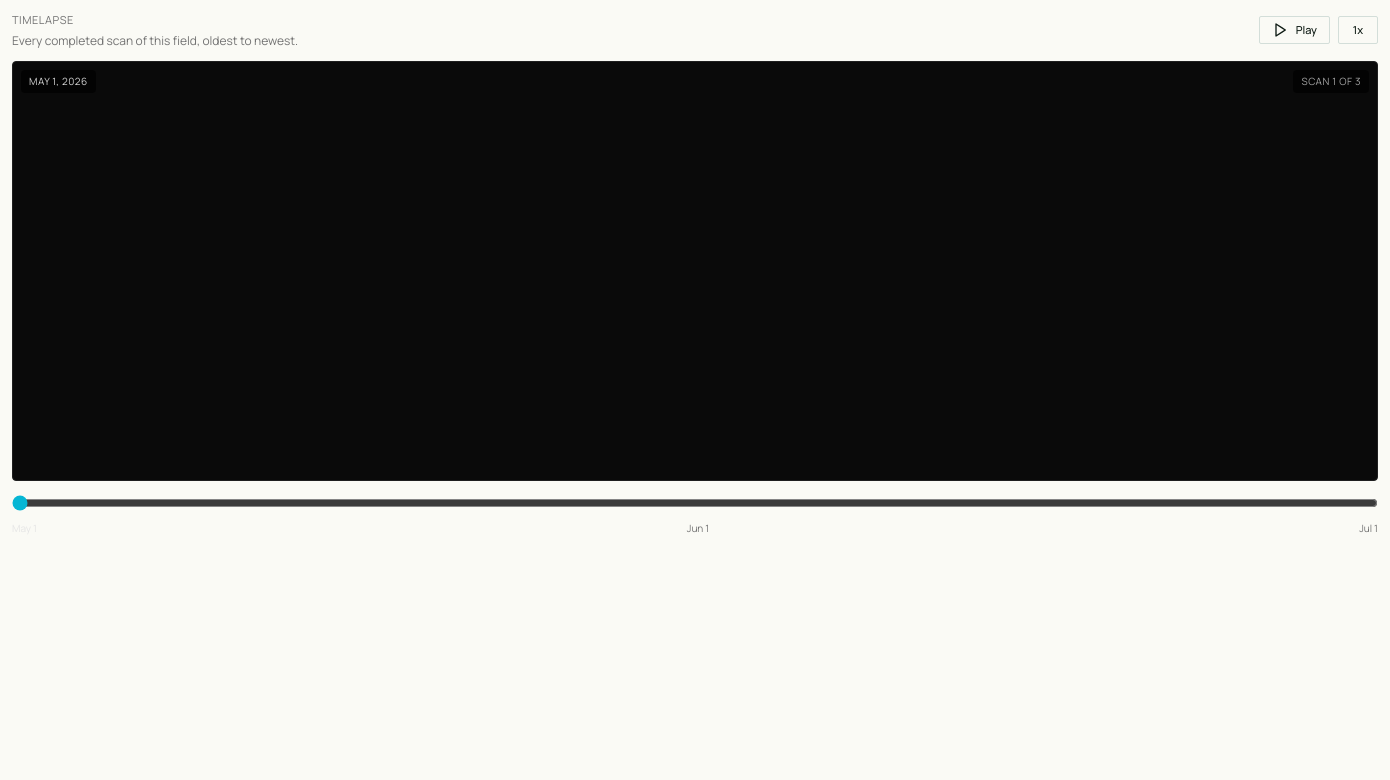
Scenario: playback › advances on its own and stops at the last scan without looping
Step 1. Click the button with aria-label "play timelapse" → (1294, 30), box x1=1259 y1=16 x2=1330 y2=44
Wait 41250 ms
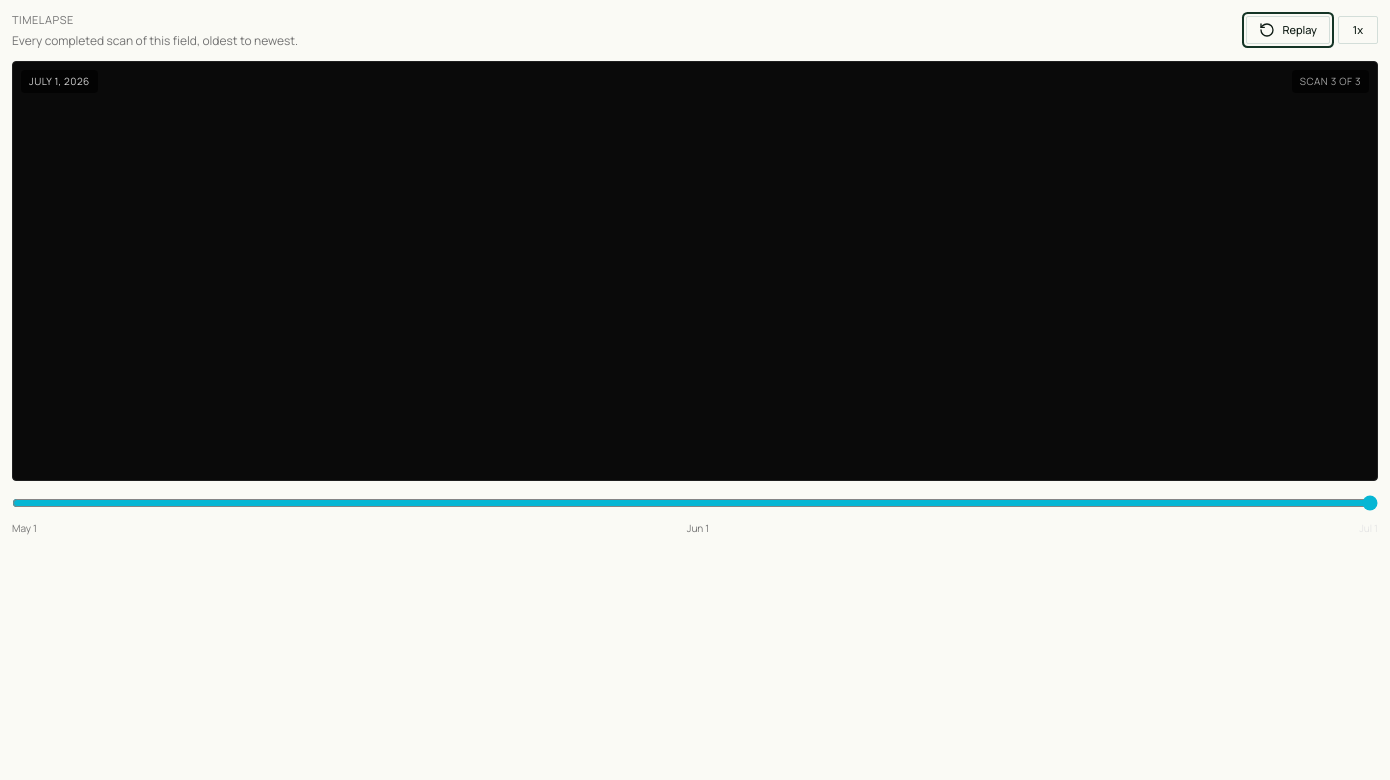
expect the button with aria-label "replay timelapse" is shown: met, box x1=1246 y1=16 x2=1330 y2=44
